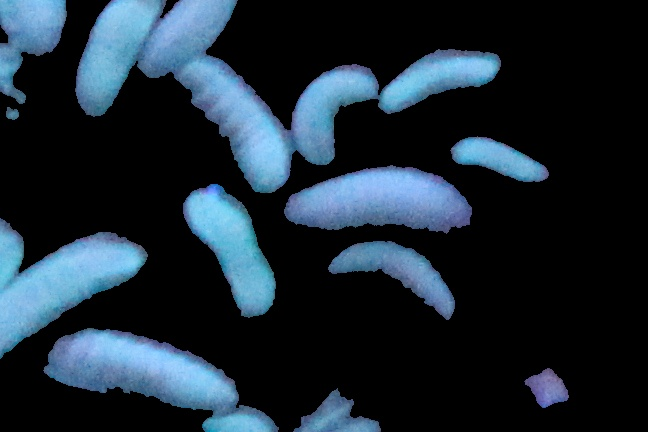larvae: (1, 230, 154, 364), (40, 332, 237, 412), (180, 60, 288, 194), (288, 169, 475, 244), (183, 191, 276, 316), (75, 1, 163, 119), (327, 245, 453, 323), (142, 1, 244, 82), (292, 72, 376, 165), (382, 58, 496, 114), (451, 138, 547, 183), (1, 1, 69, 58)
